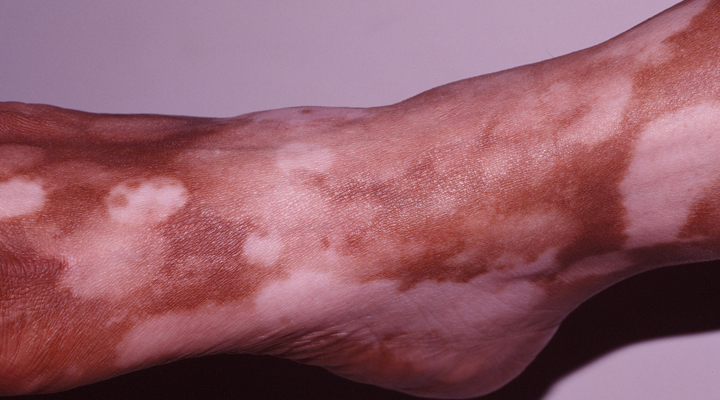vitiligo: (51, 123, 559, 352)
